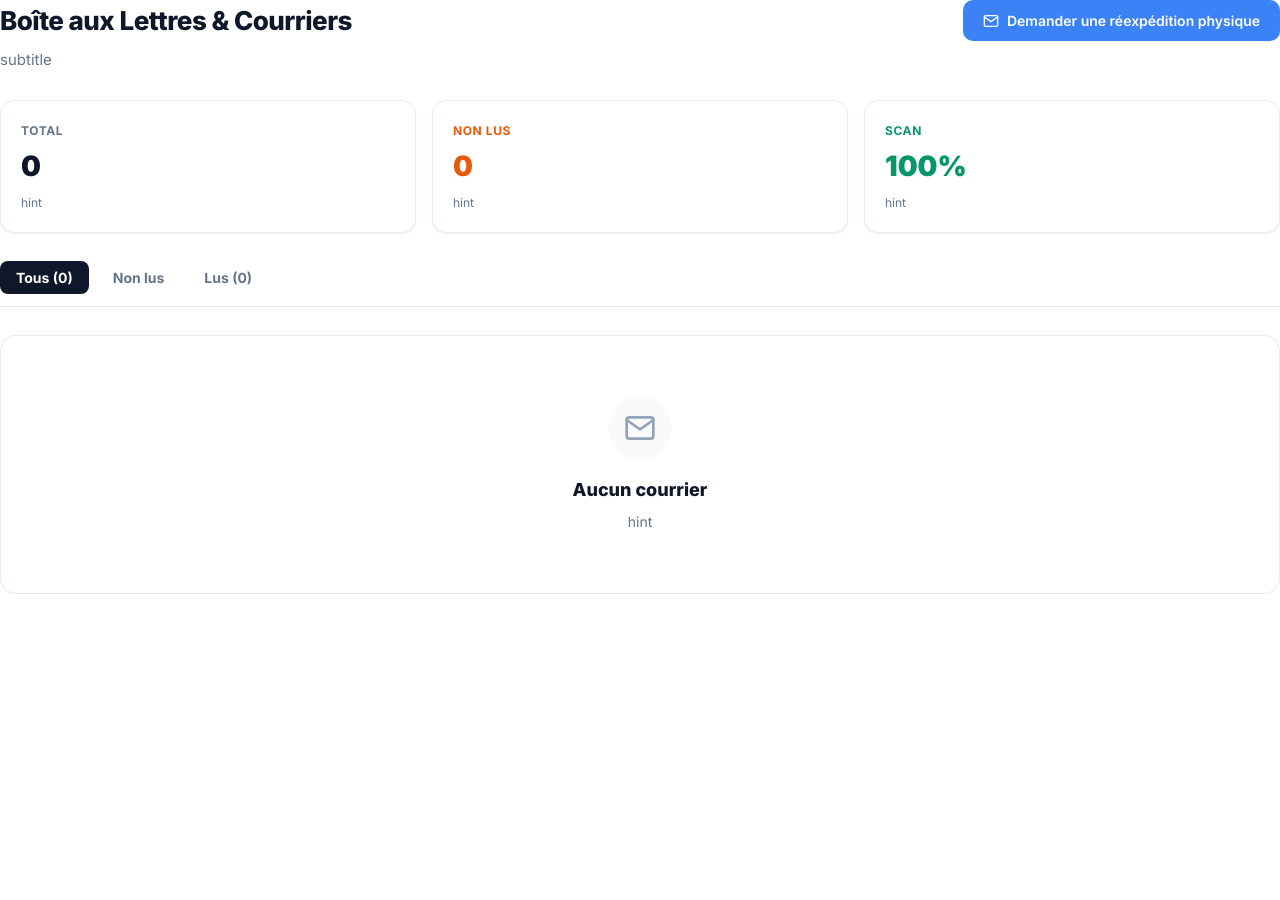
Test: Mail — réexpédition physique › préremplit avec l’adresse de réexpédition enregistrée
This screenshot has width=1280, height=900.
Click the button "Demander une réexpédition physique".
click(1122, 20)  # box [963, 0, 1279, 41]
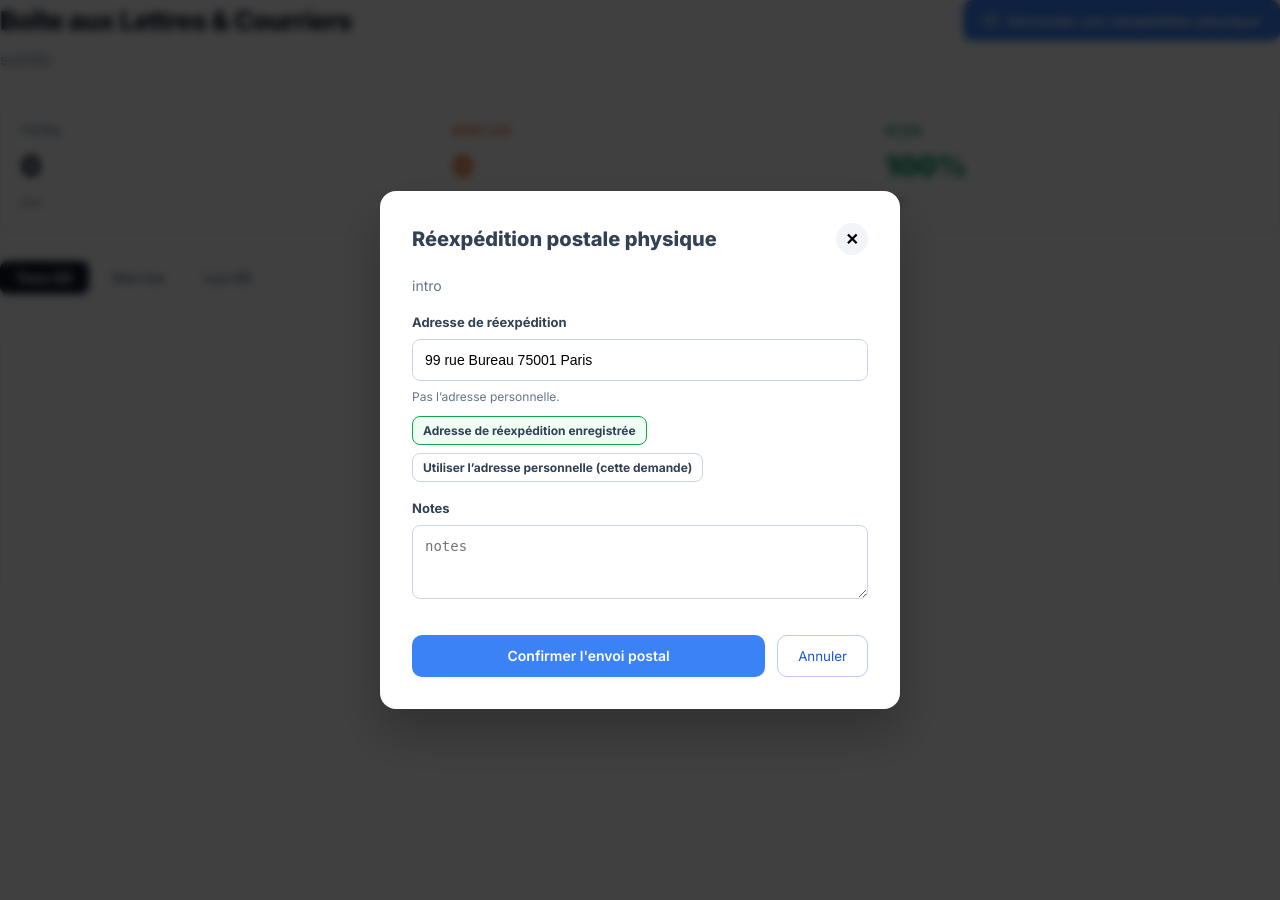
Check: the field with placeholder "Ex: 12 Rue" holds "99 rue Bureau 75001 Paris", box [412, 339, 868, 381]
